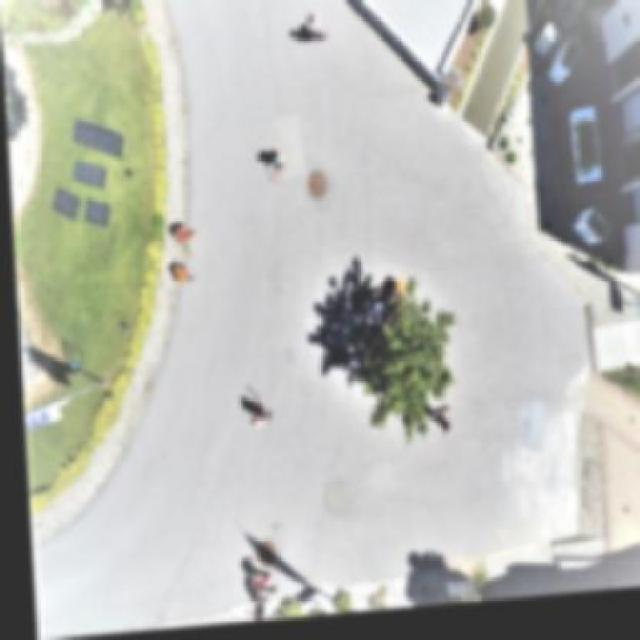Person: (157, 217, 197, 258), (254, 148, 286, 187), (160, 256, 198, 286), (235, 410, 270, 435)
